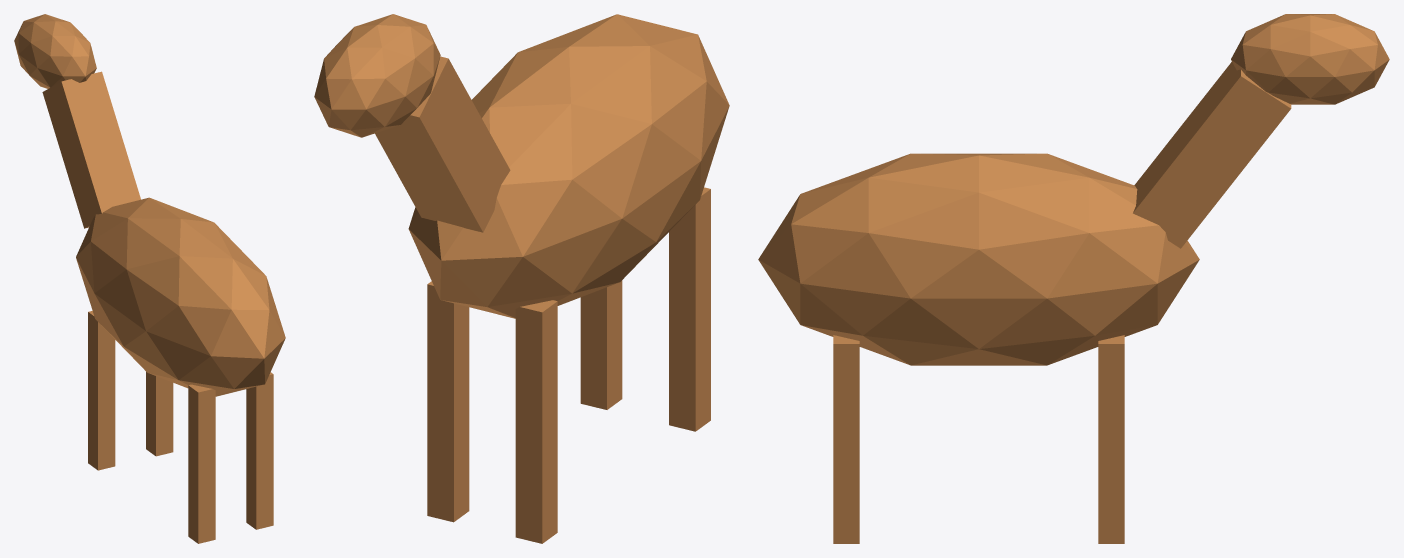
File: Horse_Foal.fbx
3 renders of one model, left to right at view 1: azimuth 30°, elevation 25°; view 2: azimuth 150°, elevation 25°; view 3: azimuth 270°, elevation 25°, orthographic. The views are drawn at different scales.
Visible parts, largest first — view 1: Foal; view 2: Foal; view 3: Foal.
Part boxes in pixels (x1=…): Foal: x1=14, y1=14, x2=285, y2=543; Foal: x1=314, y1=14, x2=729, y2=543; Foal: x1=758, y1=14, x2=1389, y2=543.
Size of the model in its own units: 0.4185 by 1.26 by 1.43.
